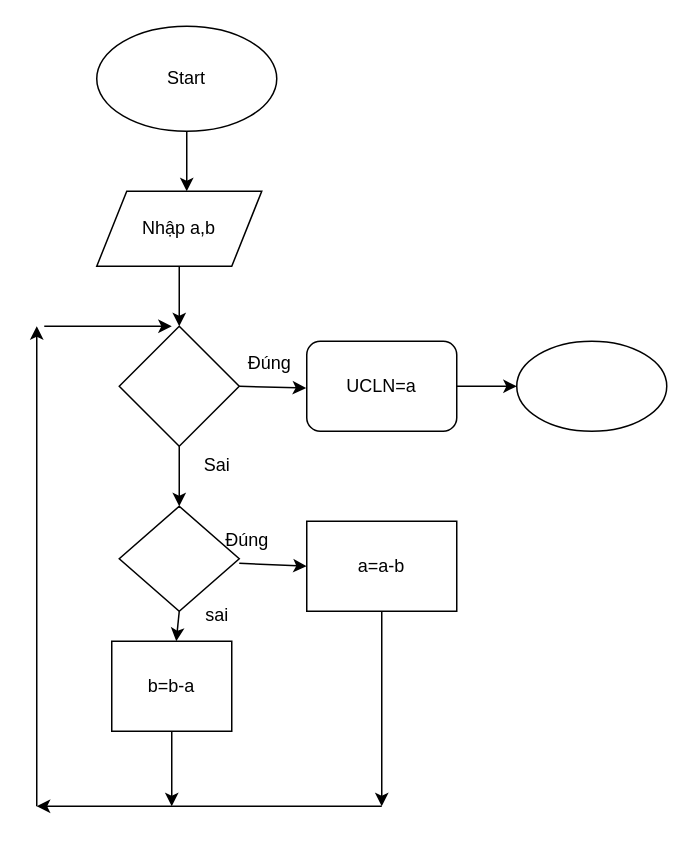
Image size: 693x845. Some labels were removed from this diagram. Each missing label, with the box of its shape:
a=b: (118, 325, 239, 446)
a>b: (118, 505, 239, 611)
End: (515, 340, 667, 431)
